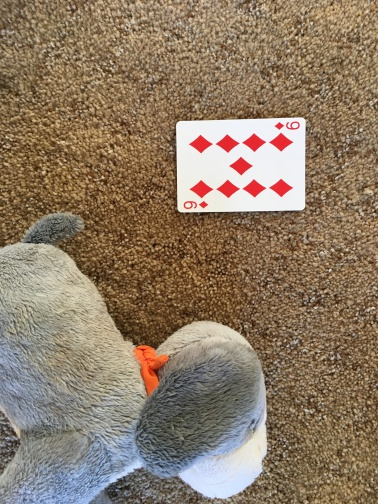nine: (171, 115, 310, 215)
